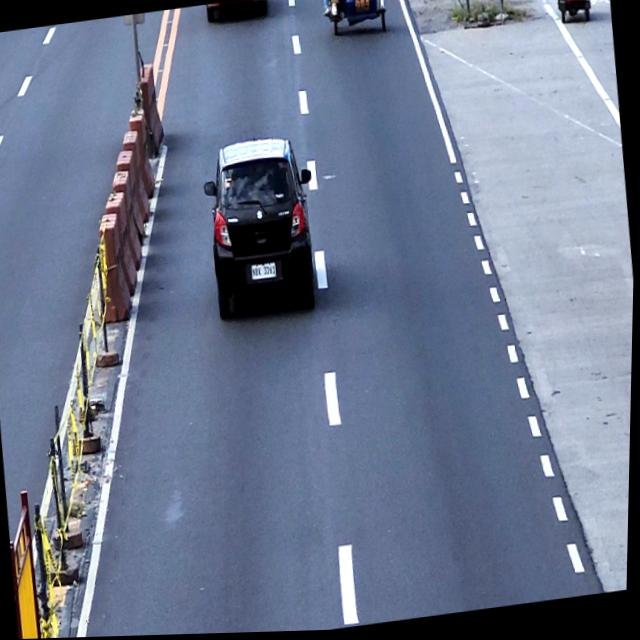Car: (196, 131, 327, 323)
E-bike: (550, 0, 594, 28)
License-Plate: (250, 260, 279, 283), (328, 0, 339, 7)
Tricycle: (319, 0, 388, 41)
